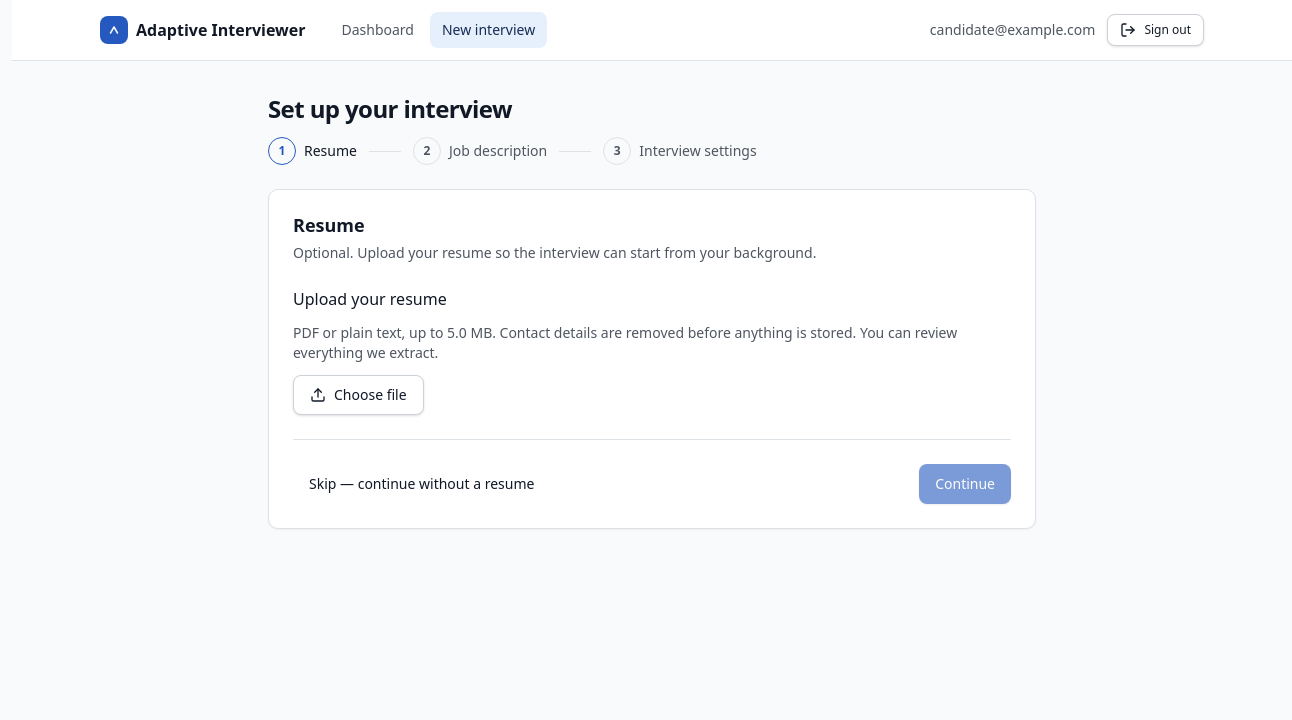
Test: setup wizard — interview settings › validates role and topics before creating anything
The image size is (1292, 720).
Click the button "Skip — continue without a resume" at (422, 484), box [293, 464, 550, 504]
(page scrolled)
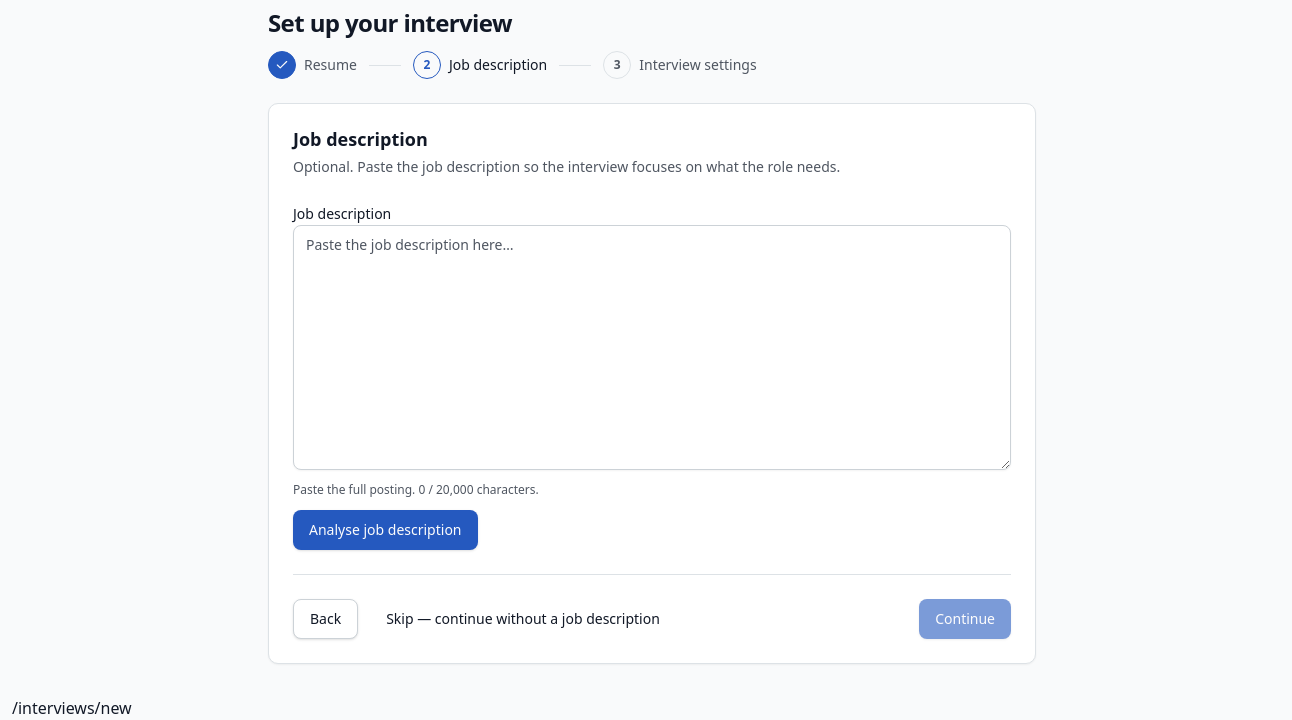
Click the button "Skip — continue without a job description" at (523, 619), box [370, 599, 676, 639]
(page scrolled)
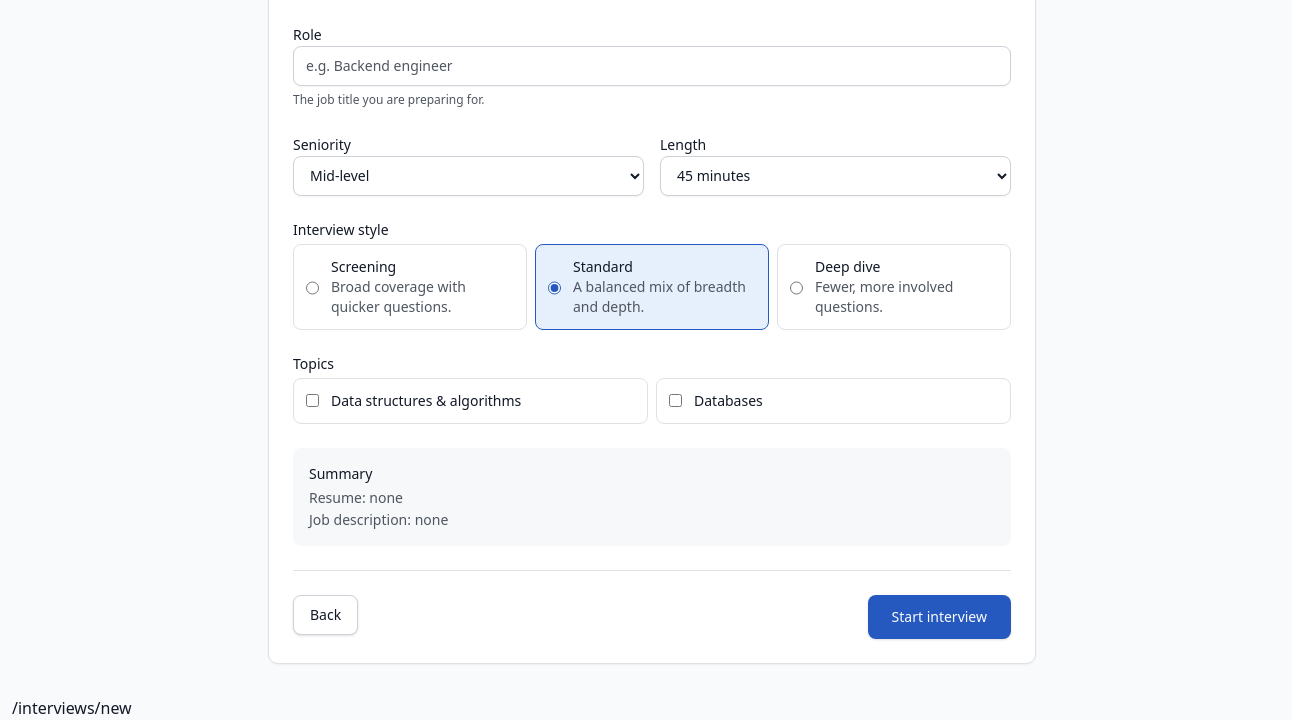
expect the field labelled "Role" is shown: met, box [293, 46, 1011, 86]
Click the button "Start interview" at (939, 616), box [868, 594, 1011, 638]
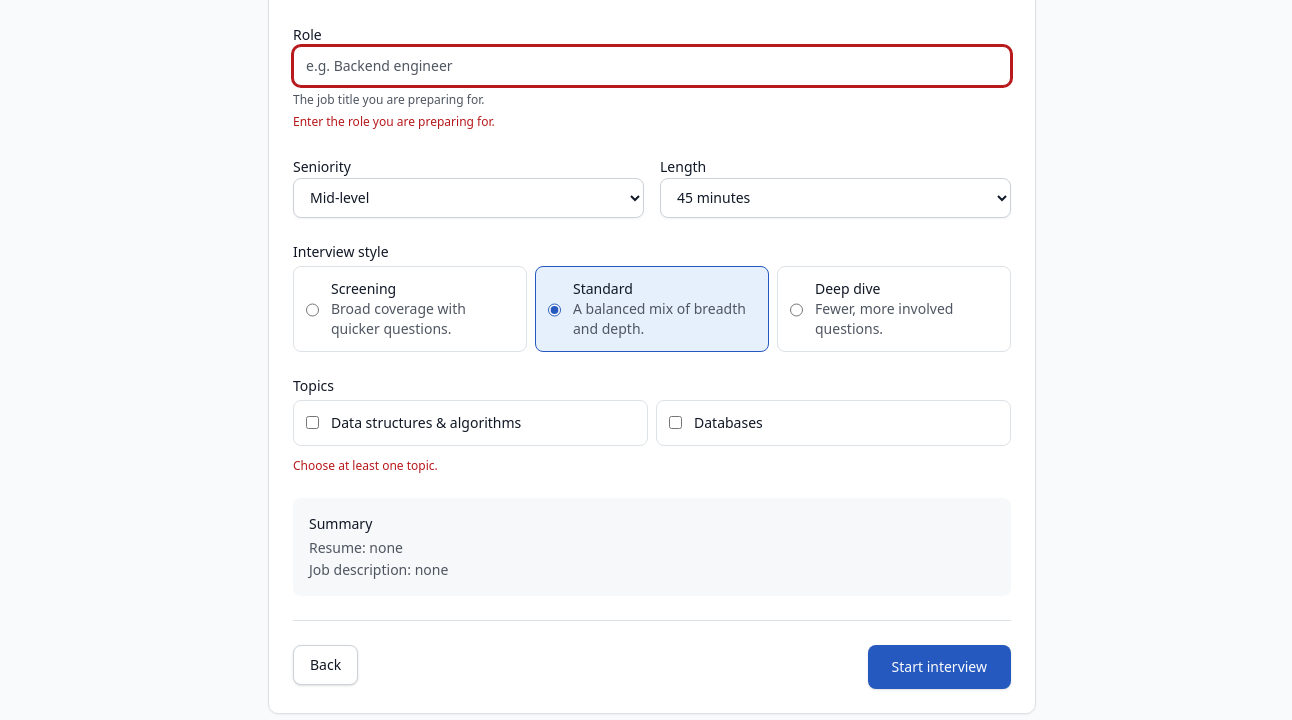
expect the text "Enter the role you are preparing for." is shown: met, box [293, 112, 495, 130]
expect the text "Choose at least one topic." is shown: met, box [293, 456, 438, 474]
